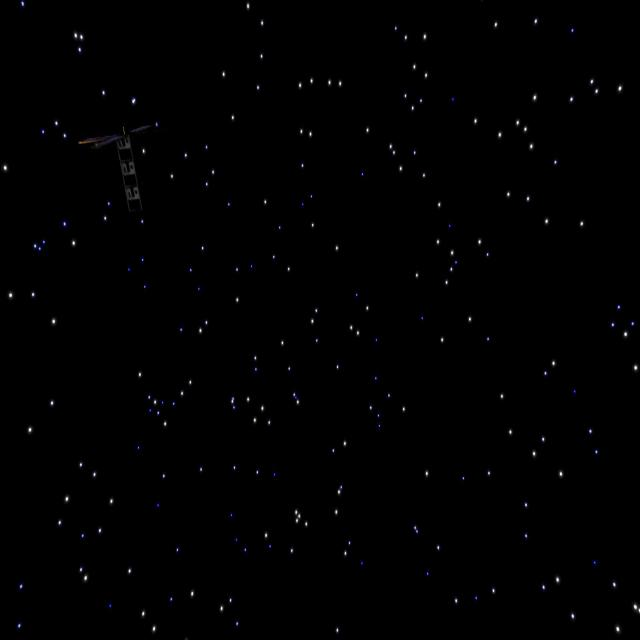medium_debris: (74, 115, 174, 208)
